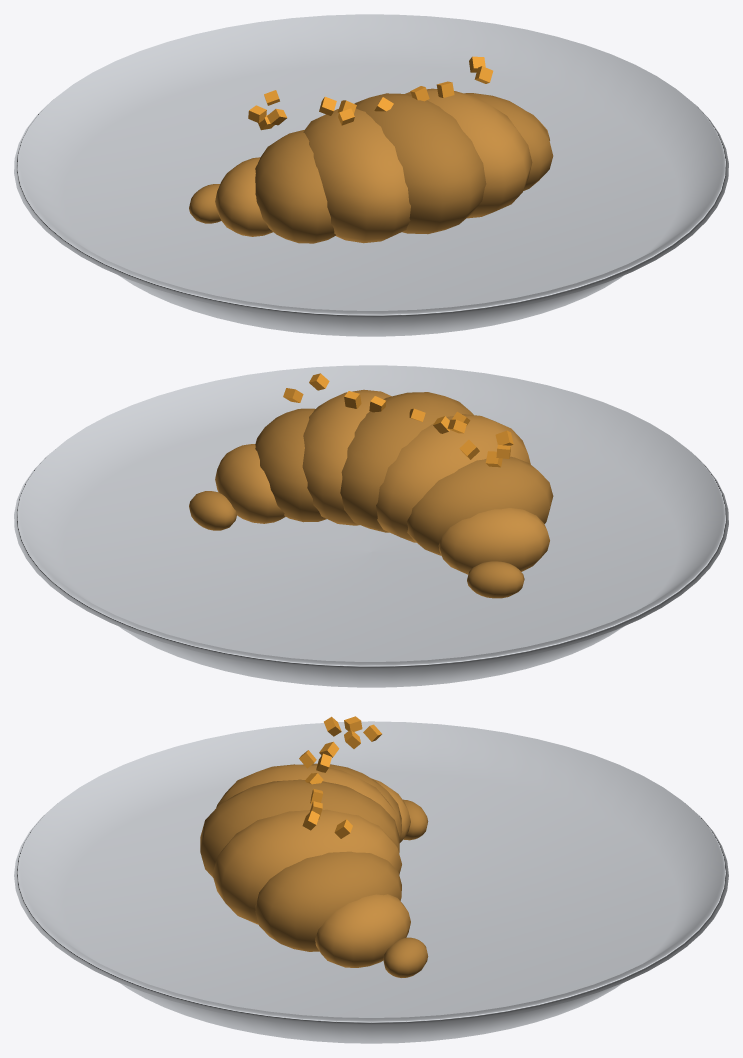
Rendered from alba-croissant-vegano-albicocca.glb.
3 renders of one model, top to bottom at view 1: azimuth 30°, elevation 25°; view 2: azimuth 150°, elevation 25°; view 3: azimuth 270°, elevation 25°, orthographic.
Bounding box in the file's own units: 0.22 × 0.0505 × 0.22.
